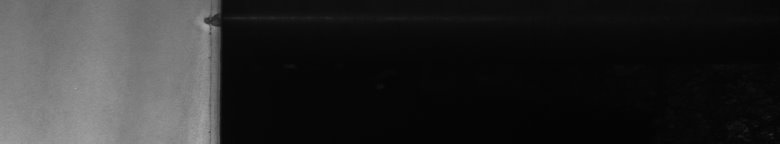hb: (196, 10, 208, 36)
